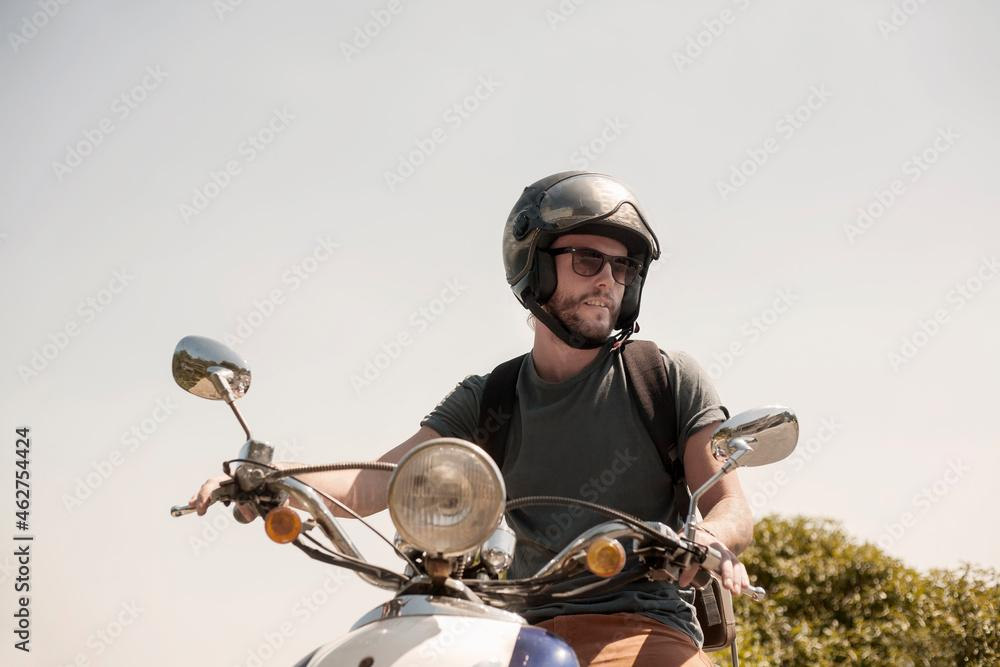helmet: (500, 169, 663, 351)
